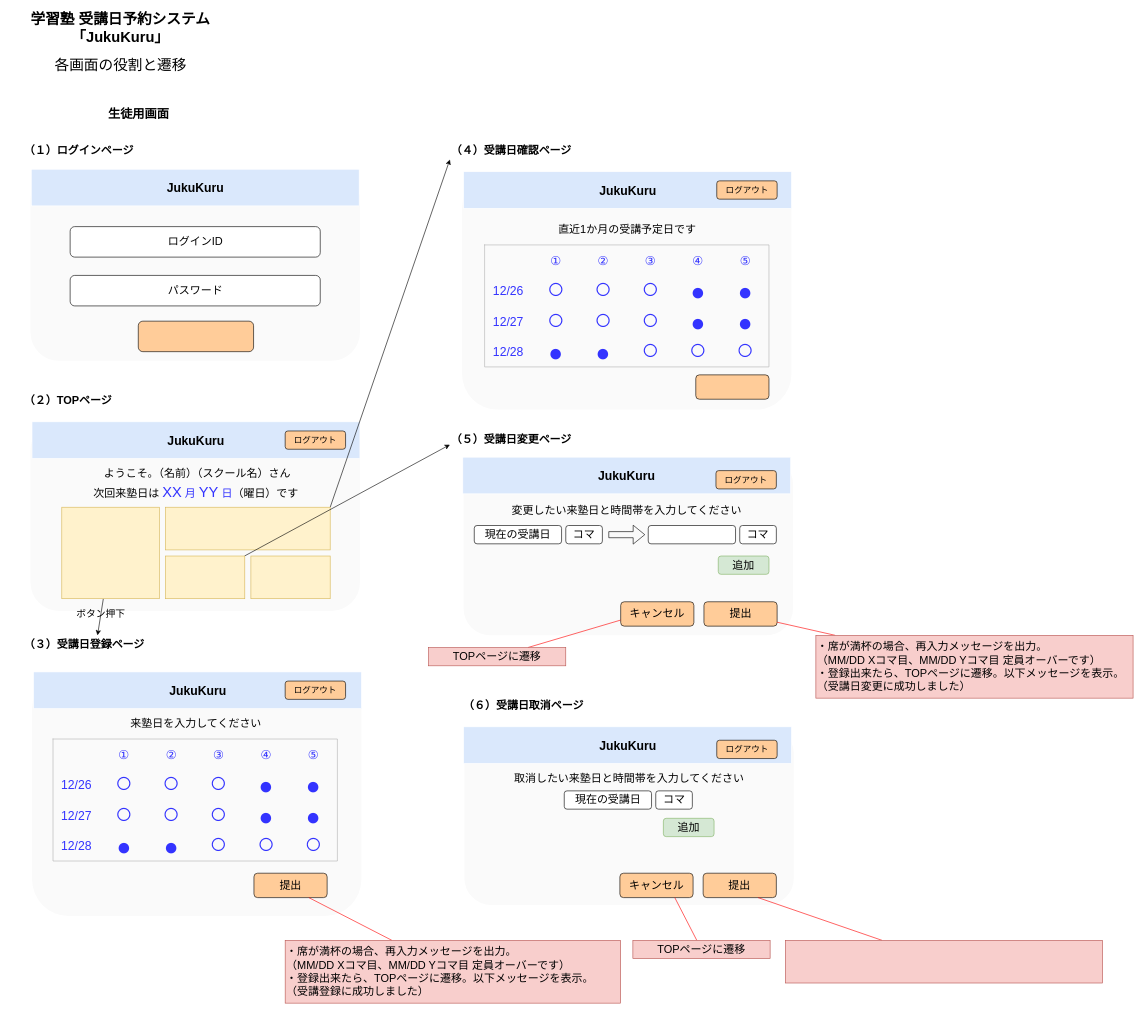
Some shapes in this 1144 by 1027 pixel diagram are drawn without their labels. Each missing label, with the centre of its shape:
TOPページへ: (x=732, y=386)
ログイン: (x=196, y=336)
・削除出来たら、TOPページに遷移。以下メッセージを表示。 （受講日取消に成功しました）: (x=944, y=961)
受講日 登録: (x=110, y=553)
受講日取消: (x=290, y=577)
受講日変更: (x=205, y=577)
受講日確認: (x=247, y=528)
変更受講日: (x=692, y=534)
